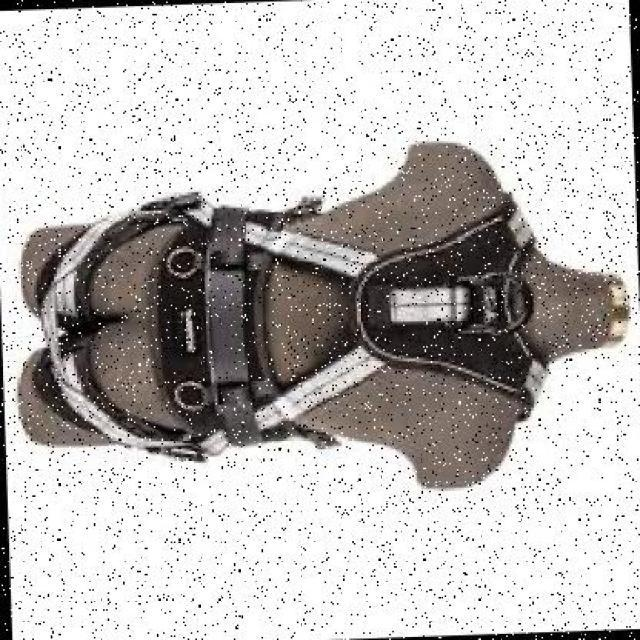Arnes_seguridad: (28, 179, 547, 464)
